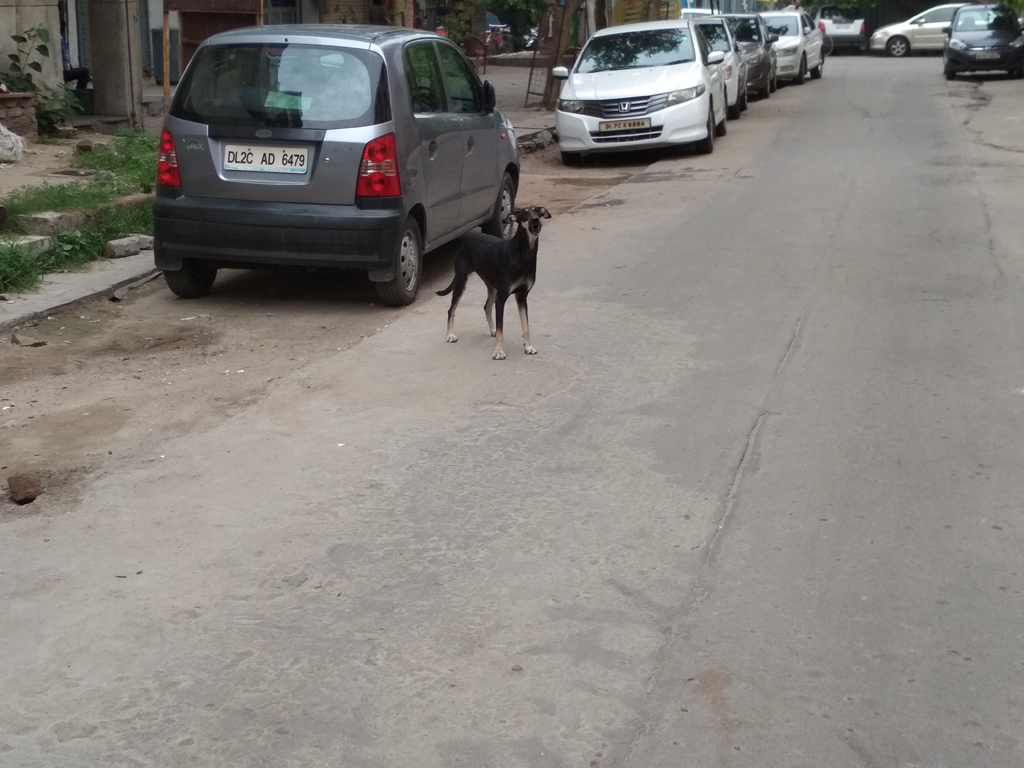dog: (436, 206, 552, 360)
